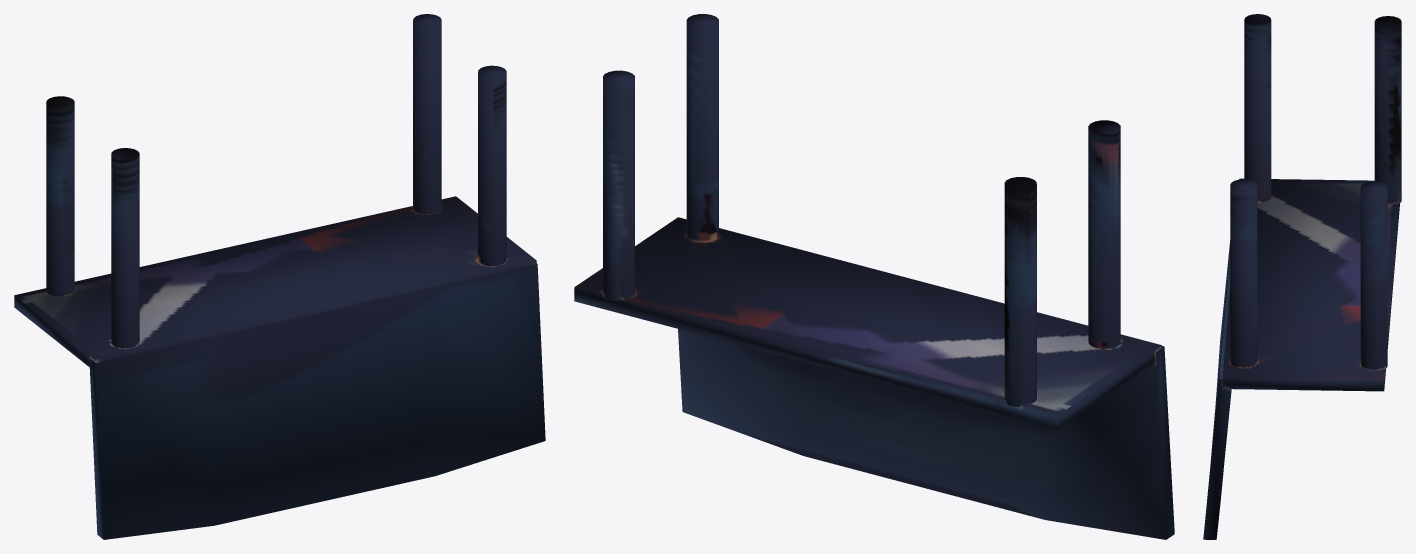
File: Banco.fbx
3 renders of one model, left to right at view 1: azimuth 30°, elevation 25°; view 2: azimuth 150°, elevation 25°; view 3: azimuth 270°, elevation 25°, orthographic. The views are drawn at different scales.
Parts seen in each view (by area): view 1: Cube.002; view 2: Cube.002; view 3: Cube.002.
Part boxes in pixels (x1,y1,x2,y2): Cube.002: [14, 14, 545, 539]; Cube.002: [574, 14, 1174, 539]; Cube.002: [1203, 14, 1401, 539].
Size of the model in its own units: 215 by 89.15 by 174.
